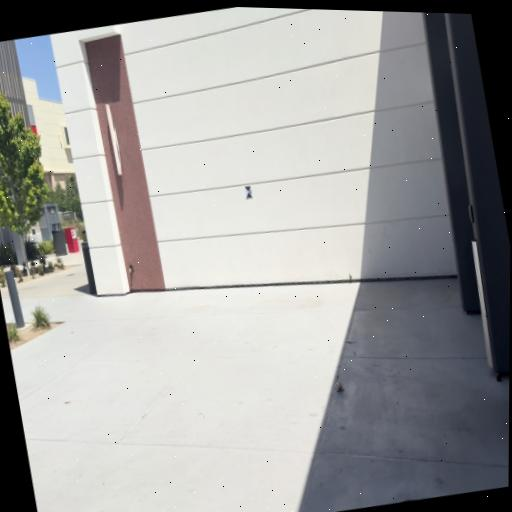target0: (244, 185, 253, 199)
